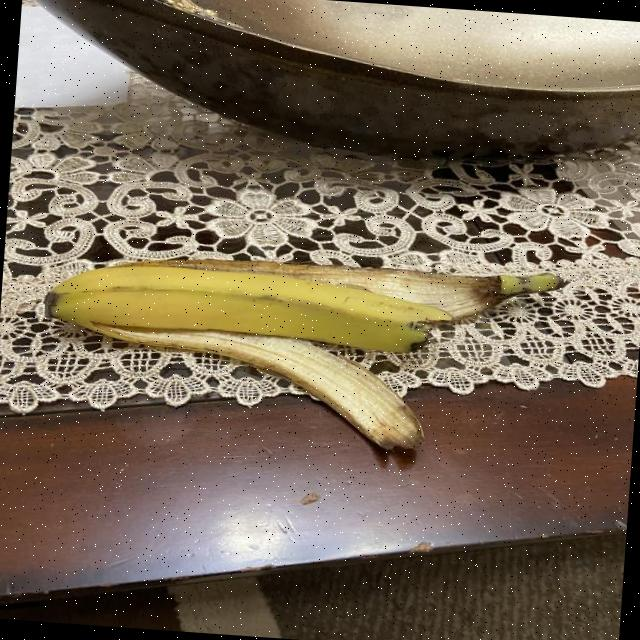banana-peel: (34, 235, 562, 462), (76, 320, 432, 454), (41, 254, 456, 357)
